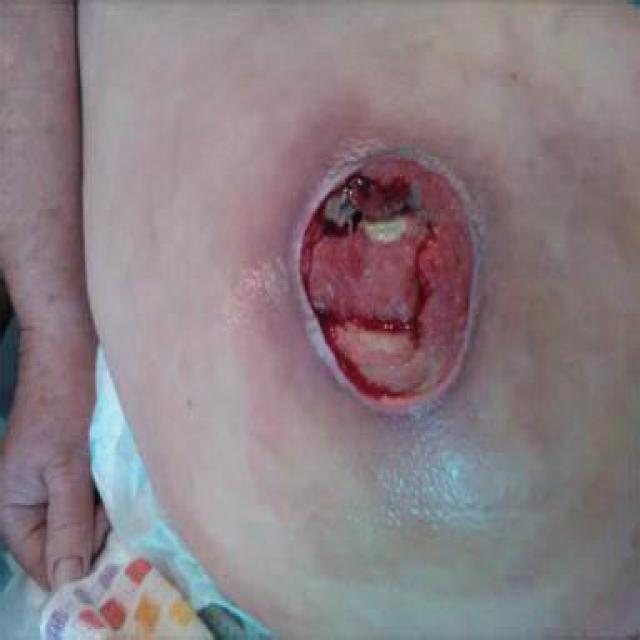stage-4: (296, 155, 476, 400)
